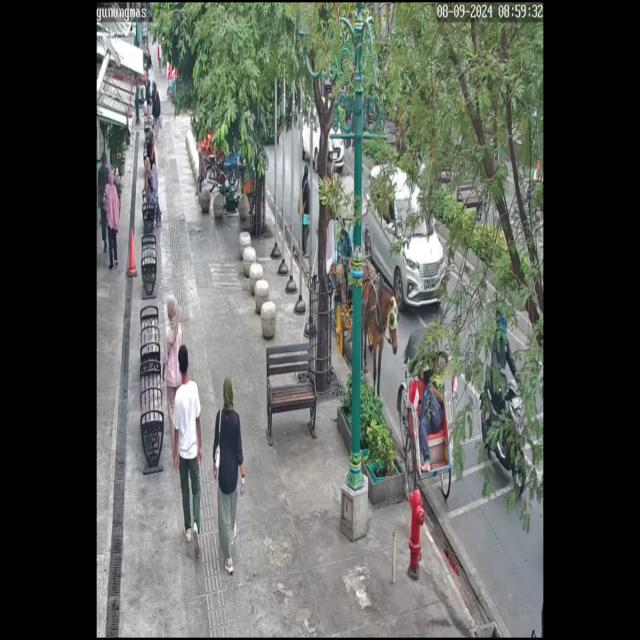Car: (365, 157, 447, 316), (296, 92, 348, 181)
